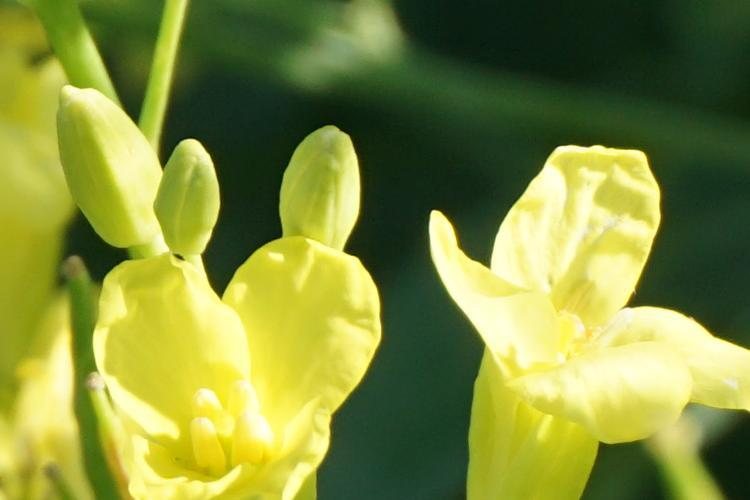bud: (41, 79, 162, 255), (270, 126, 369, 258), (157, 133, 229, 260)
pod: (55, 251, 102, 497), (91, 362, 142, 497)
yellow: (446, 143, 746, 484), (93, 255, 375, 499)
